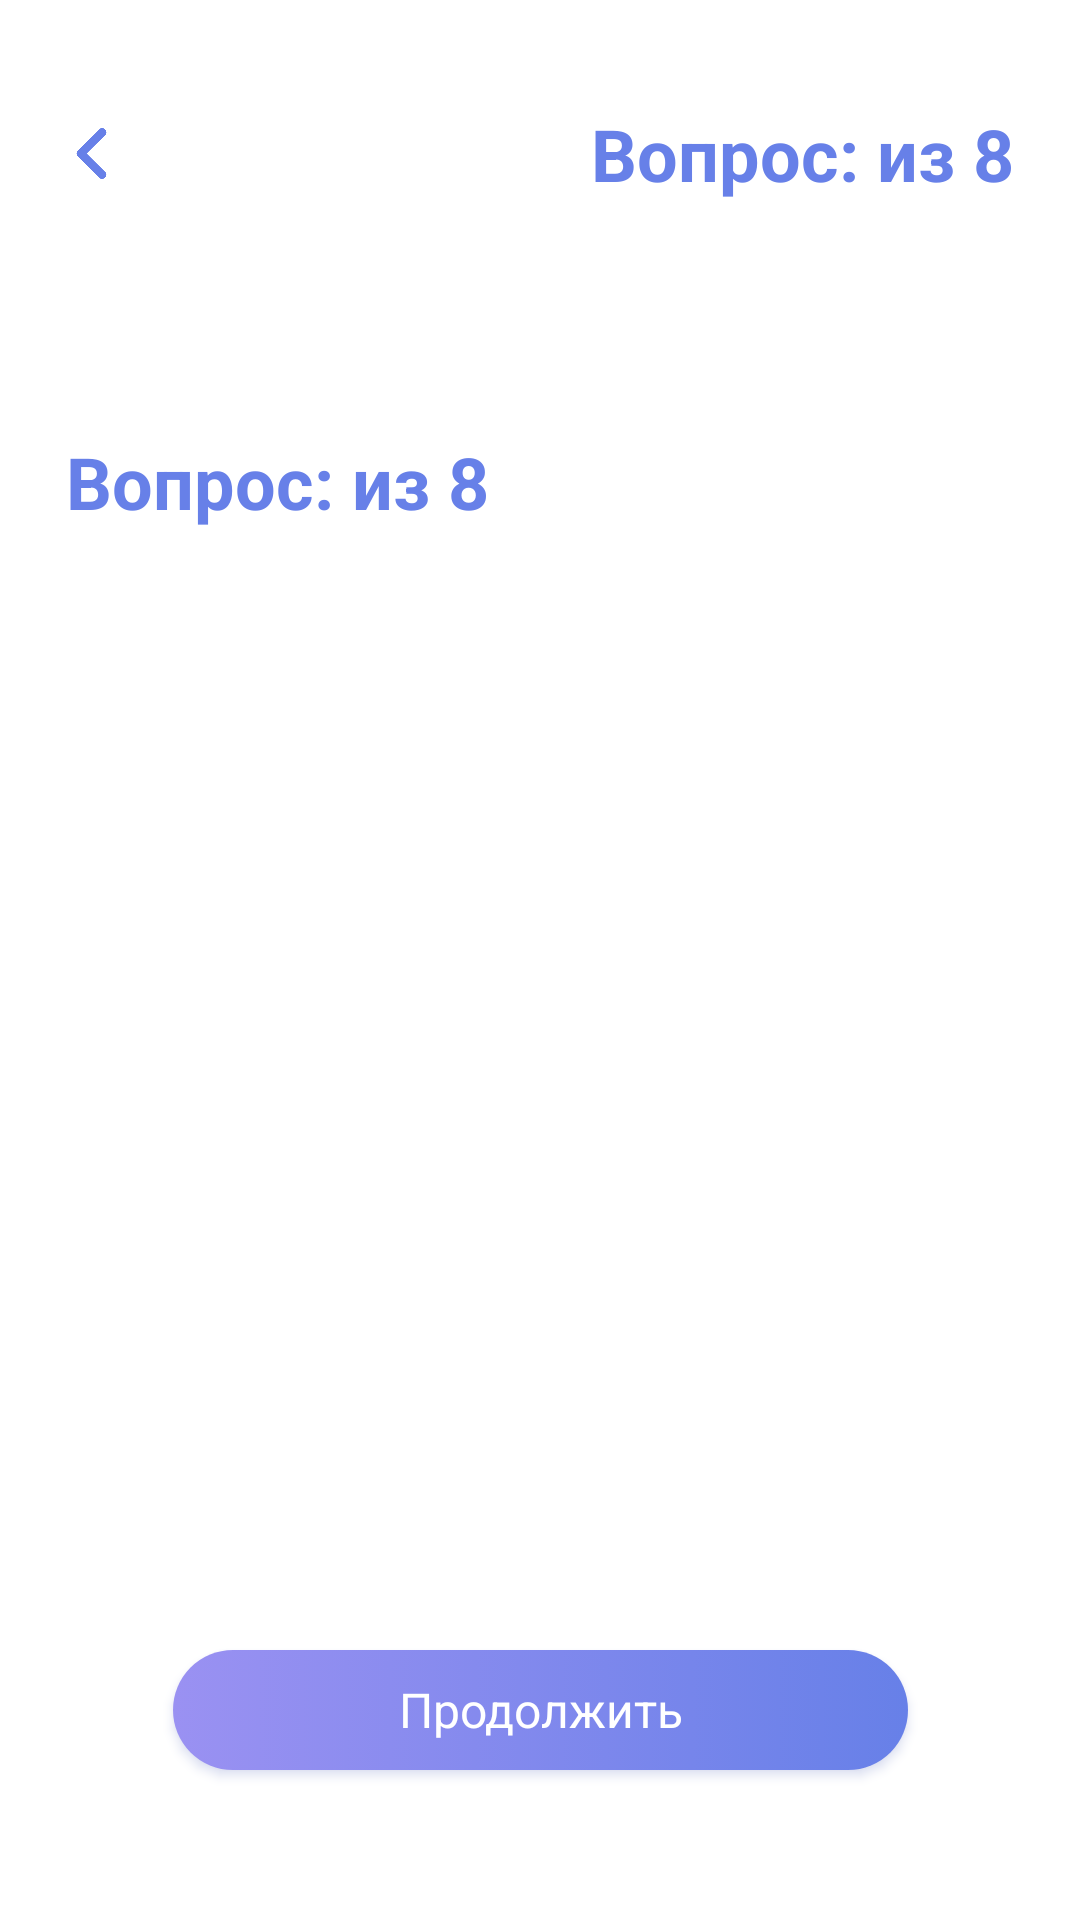

Where icons sit on this 1080w x 1920h app screen, as (x1, y1, x2, y2):
back: (76, 128, 107, 179)
